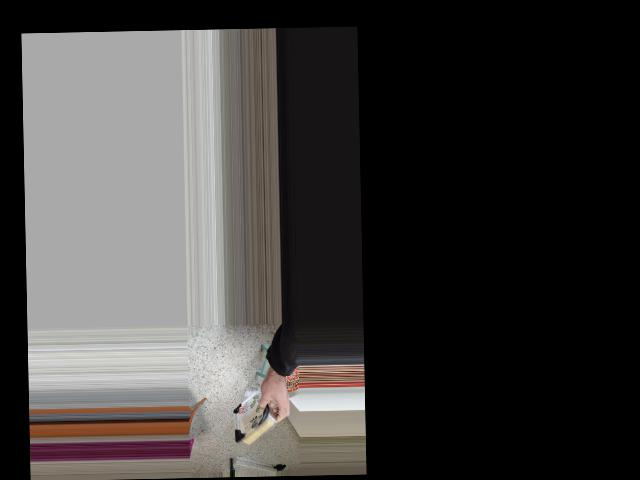cheese: (216, 392, 294, 458)
